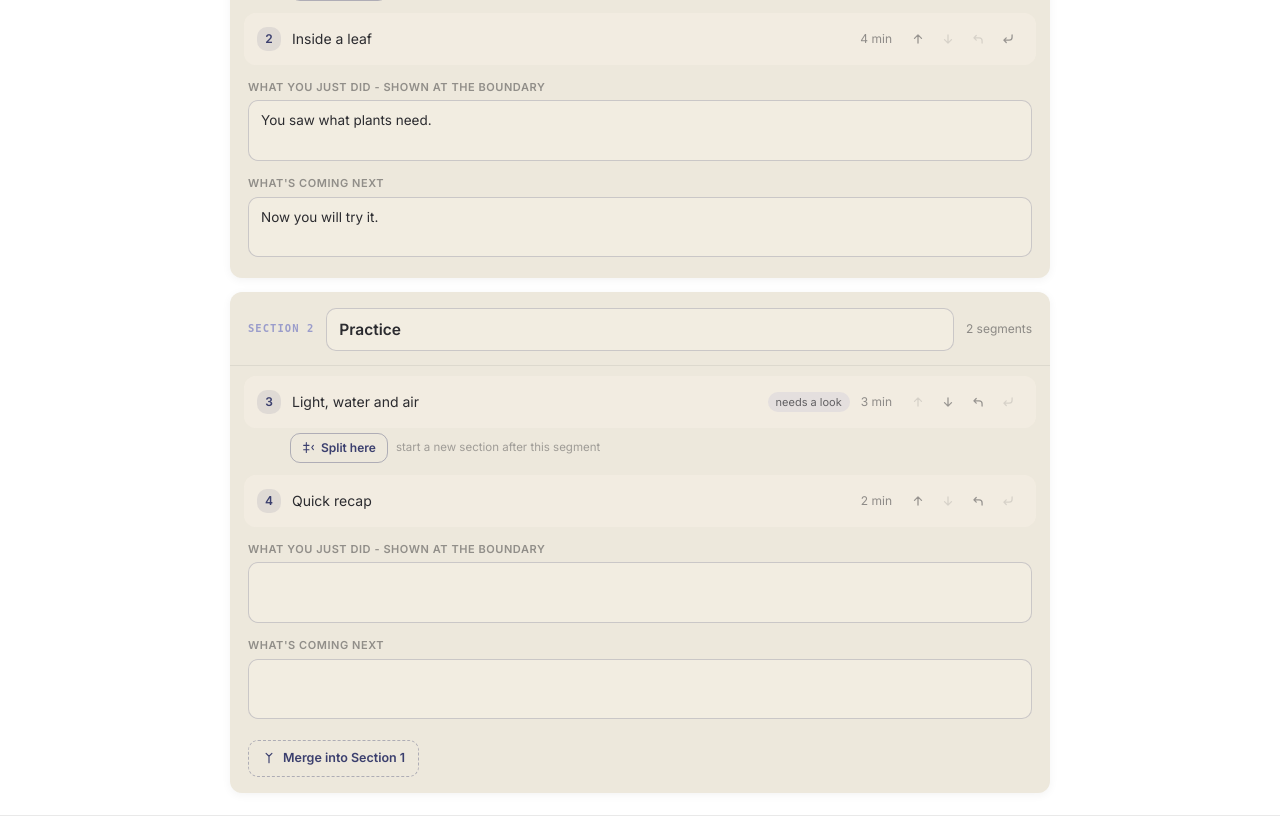
continuing › does not commit a structure it could not save
This screenshot has width=1280, height=832.
(page scrolled)
Click the button "Merge into Section 1". click: (334,758)
box: [248, 740, 419, 777]
(page scrolled)
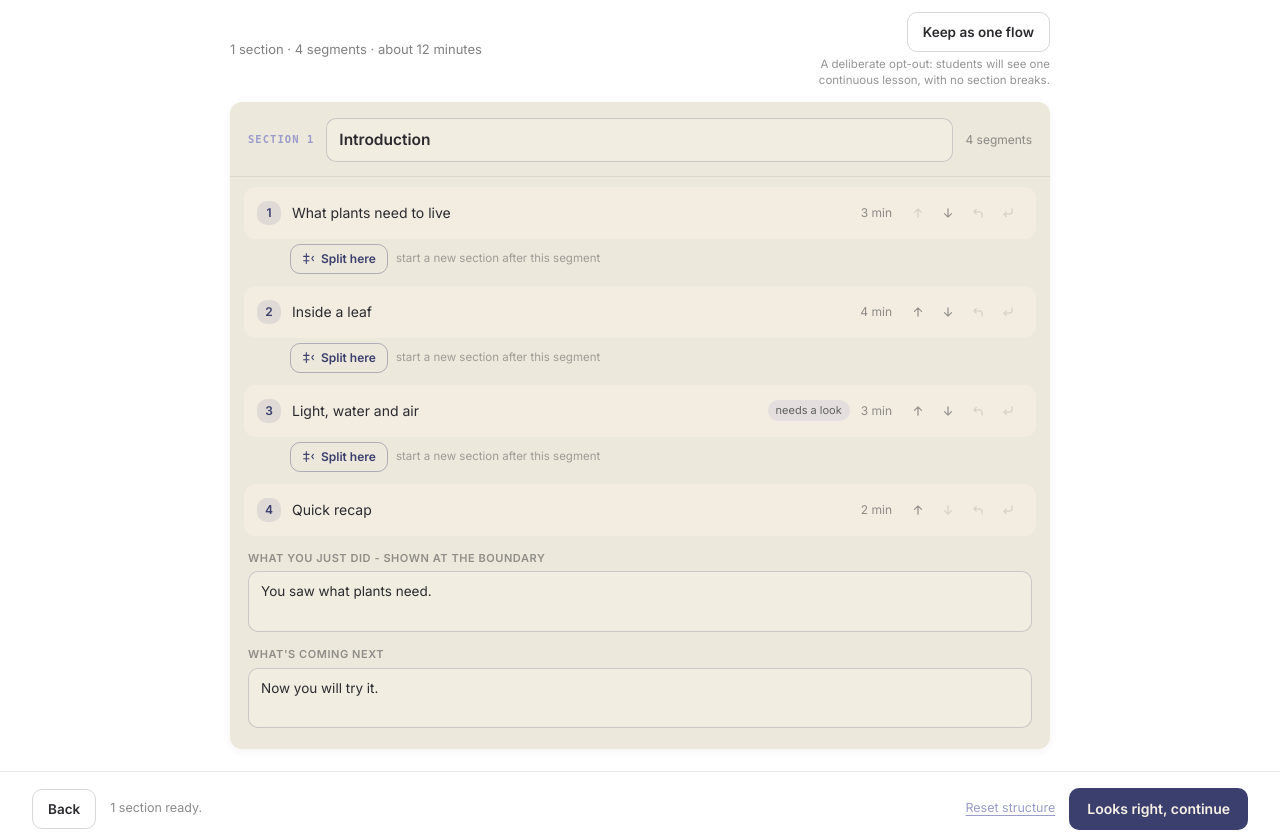
Click the button "Looks right, continue". click: (1159,809)
box: [1069, 788, 1248, 830]
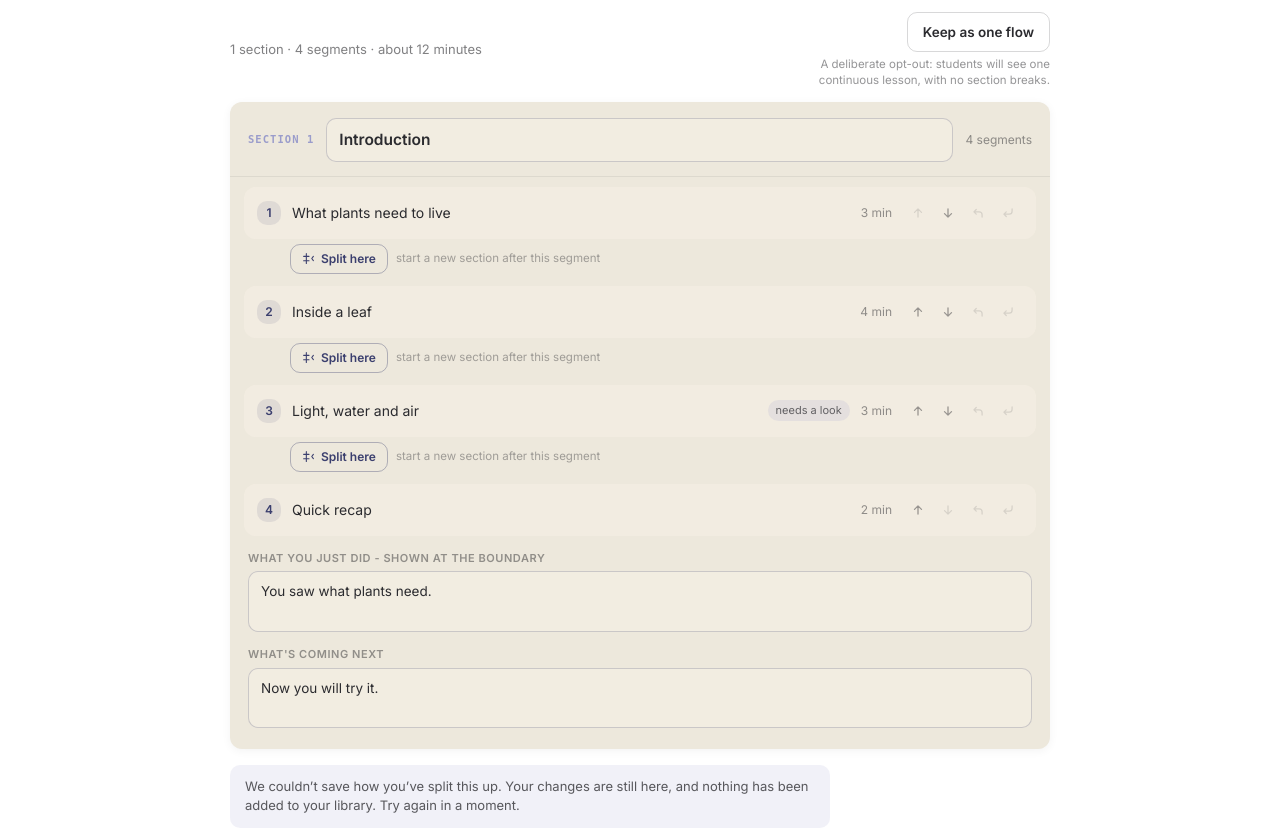
Now the text "couldn’t save how you’ve split this up" is shown, box [245, 778, 808, 813]
